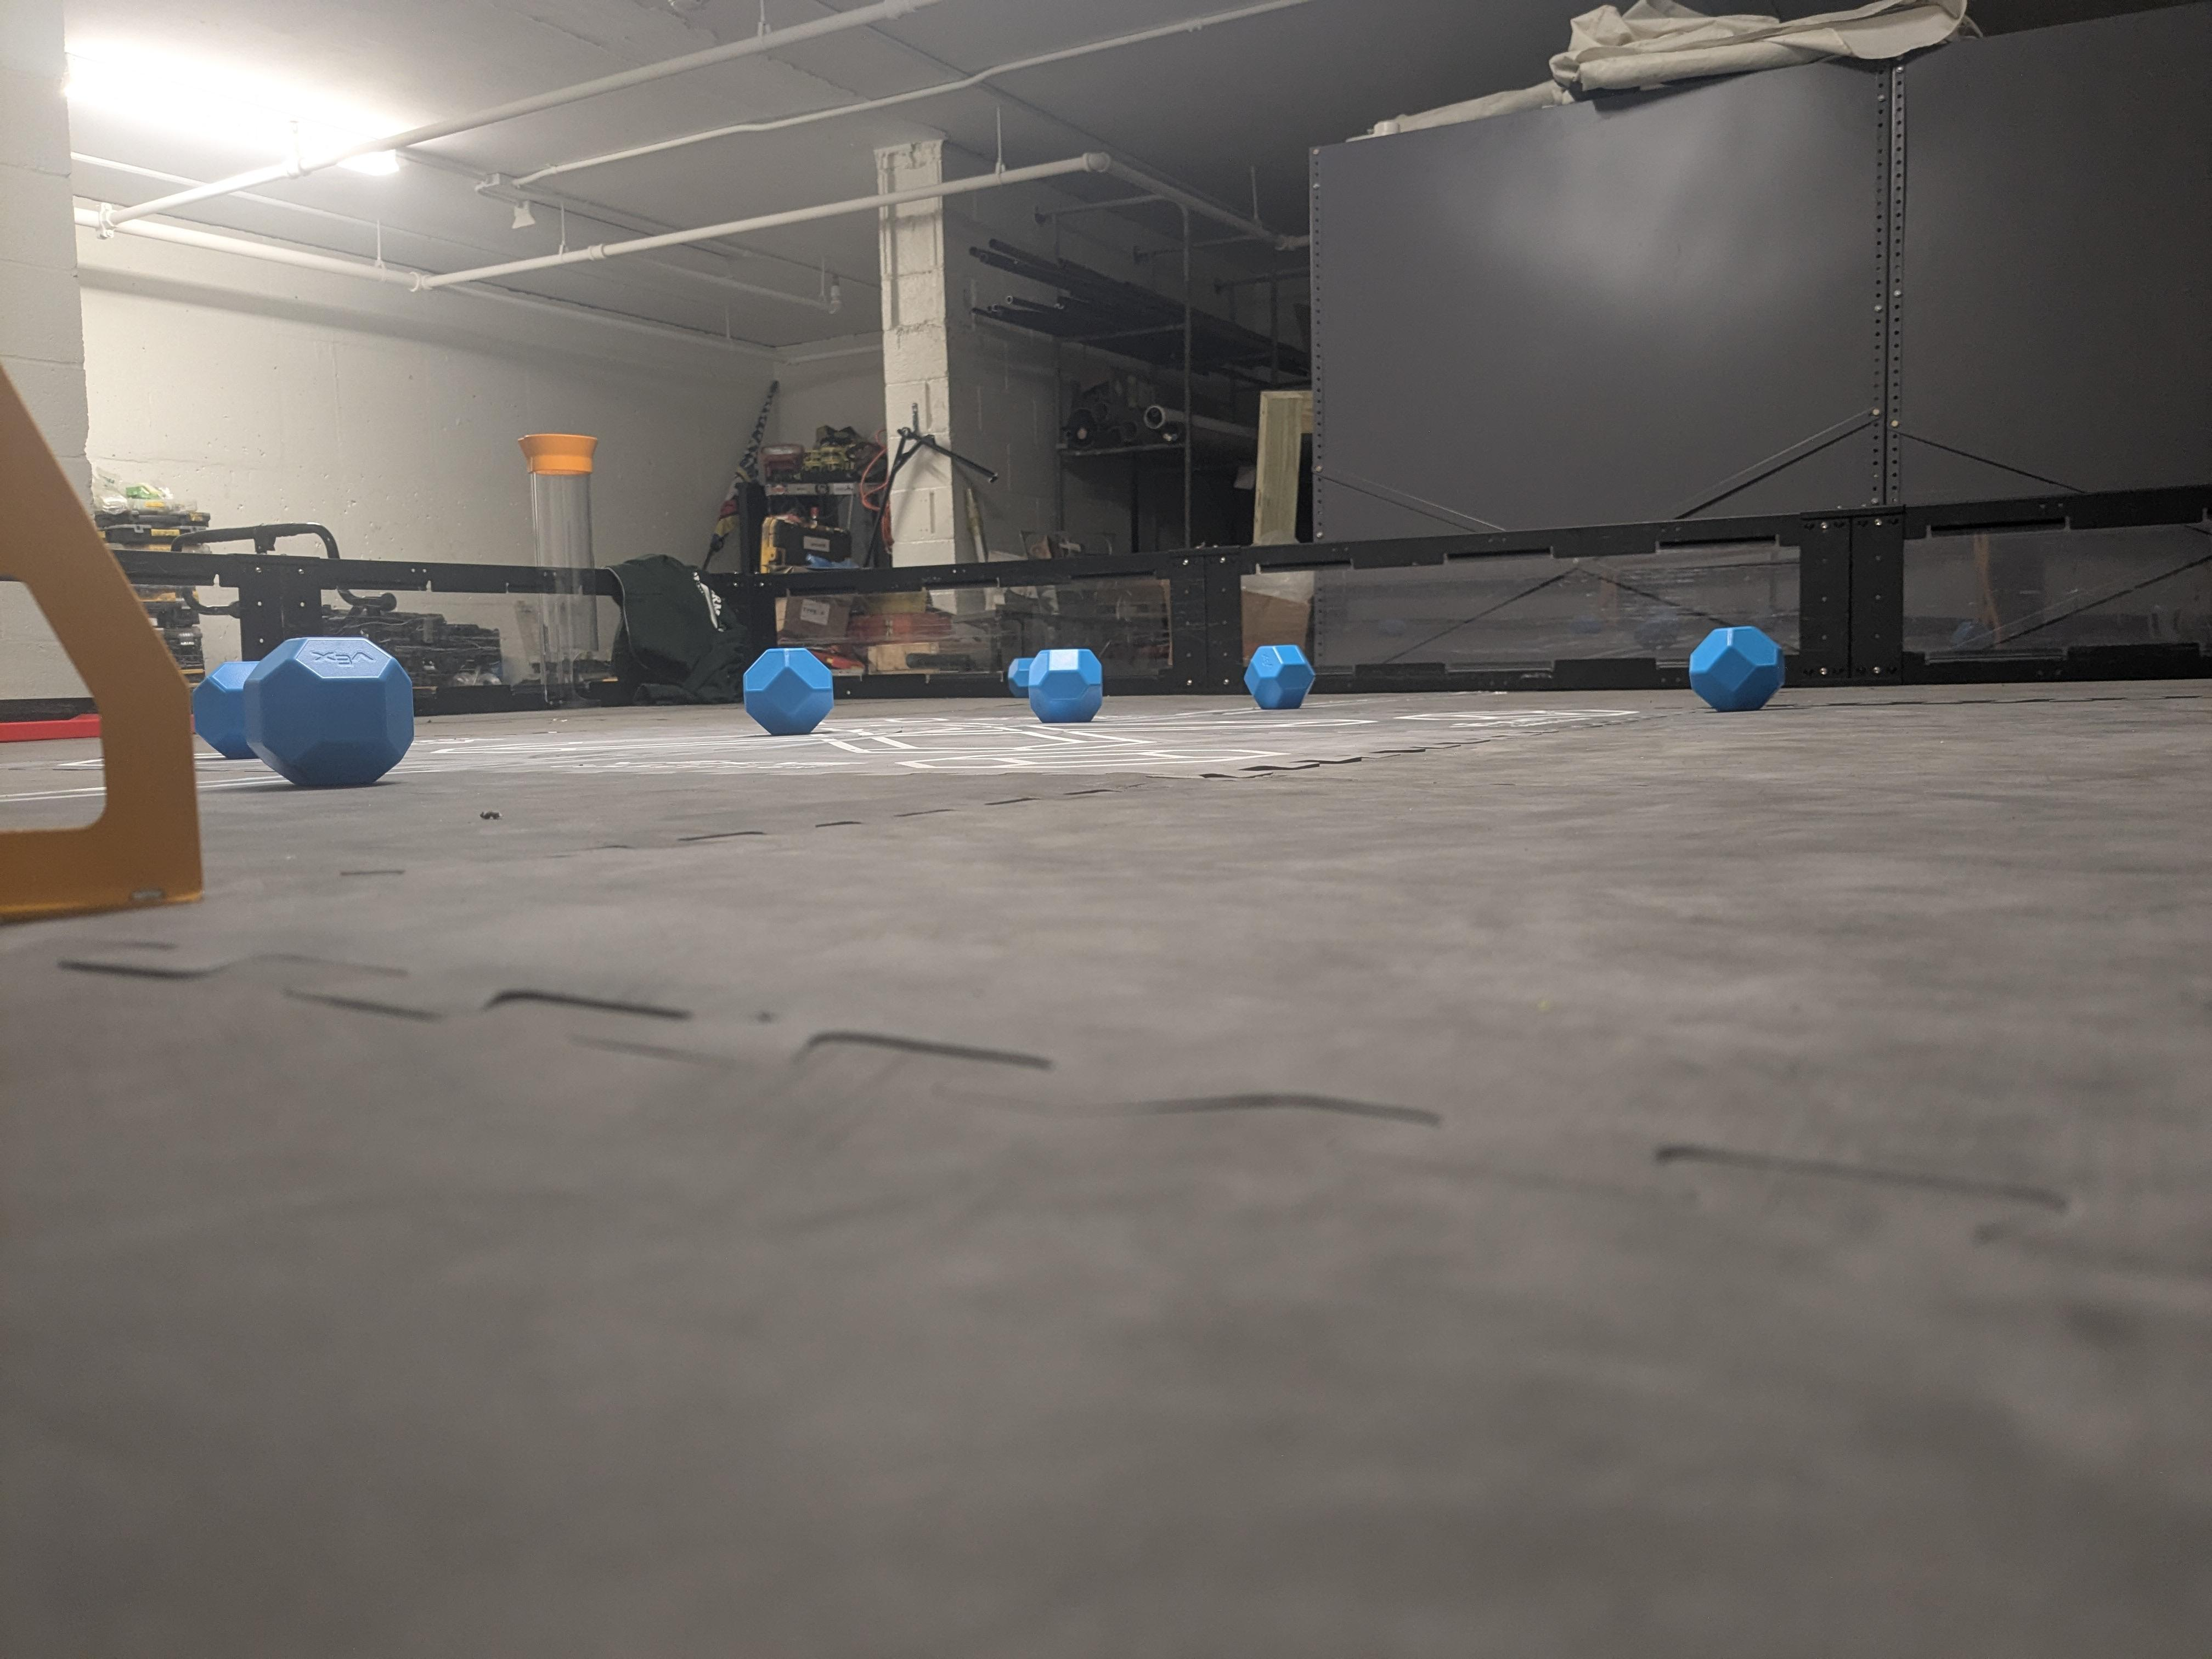Vex-Pieces-BLUE: (193, 640, 415, 784), (742, 650, 836, 734), (1689, 627, 1778, 709), (1008, 650, 1101, 723), (1247, 647, 1310, 709)
